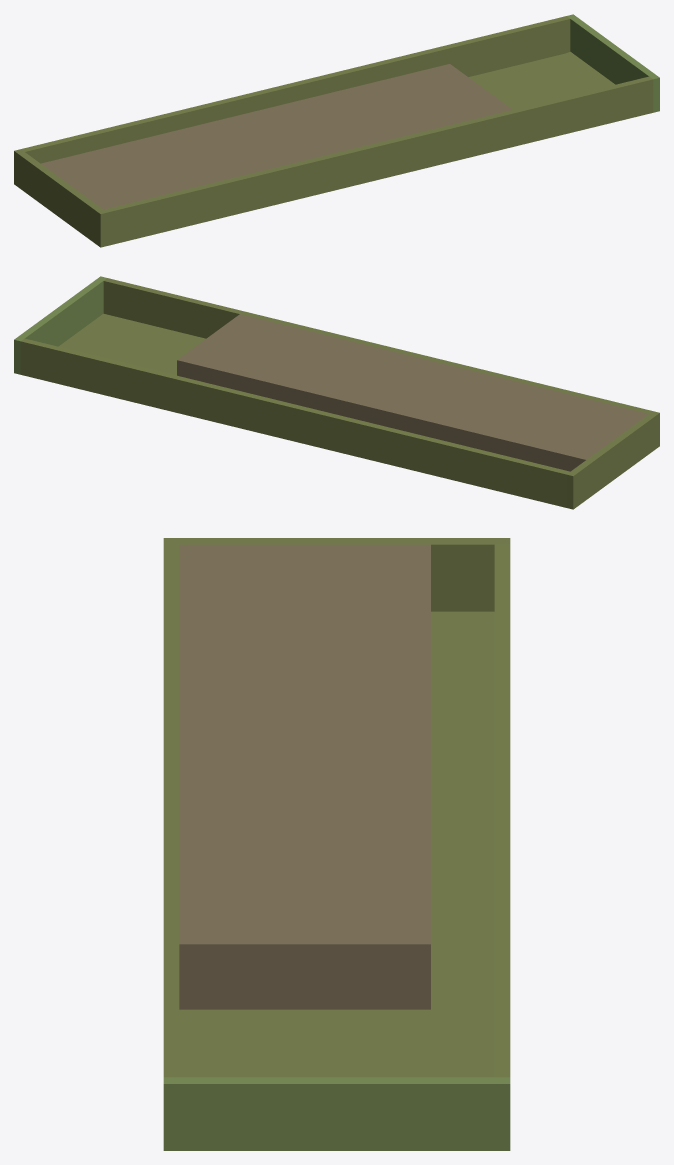
Rendered from medanum_operating_site_merged.fbx.
The picture shows the model from 3 angles, top to bottom: view 1: azimuth 30°, elevation 25°; view 2: azimuth 150°, elevation 25°; view 3: azimuth 270°, elevation 25°; orthographic projection. The views are drawn at different scales.
Visible parts, largest first — view 1: Plane; view 2: Plane; view 3: Plane.
Part boxes in pixels (left/top/right/bottom): Plane: left=14, top=14, right=659, bottom=247; Plane: left=14, top=276, right=659, bottom=509; Plane: left=163, top=538, right=510, bottom=1150.
Bounding box in the file's own units: 4373 × 255 × 1173.
